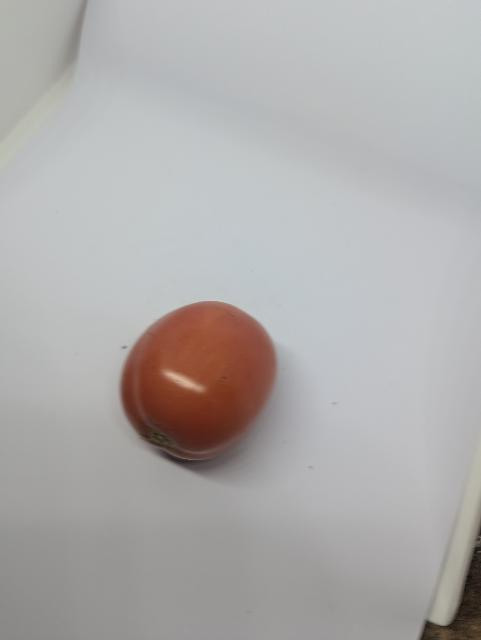red: (116, 298, 282, 472)
